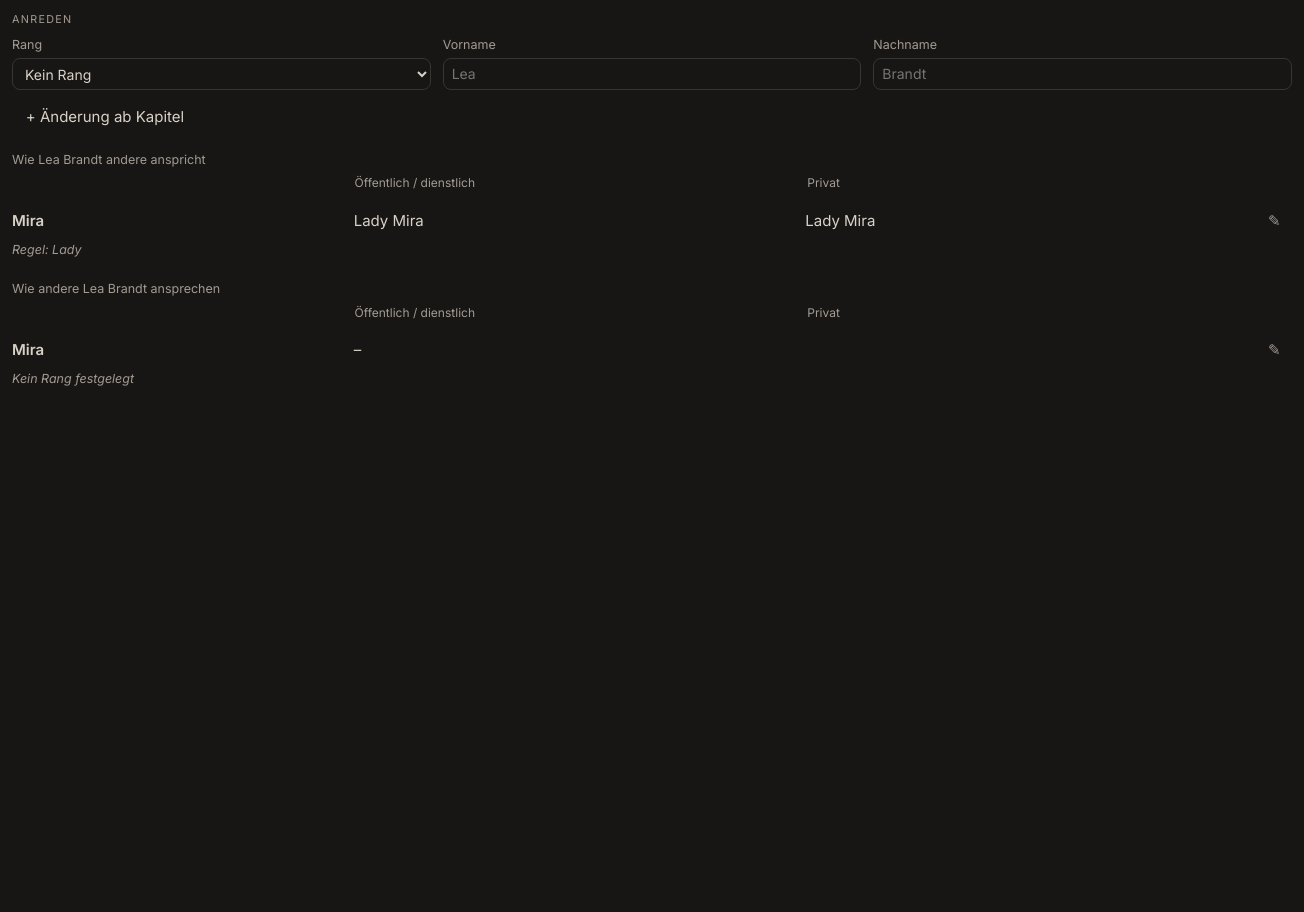
the pencil on a rule row creates an exception
Click the button named "Lea Brandt spricht Mira an – bearbeiten" at (1274, 221), box [1257,203,1292,239]
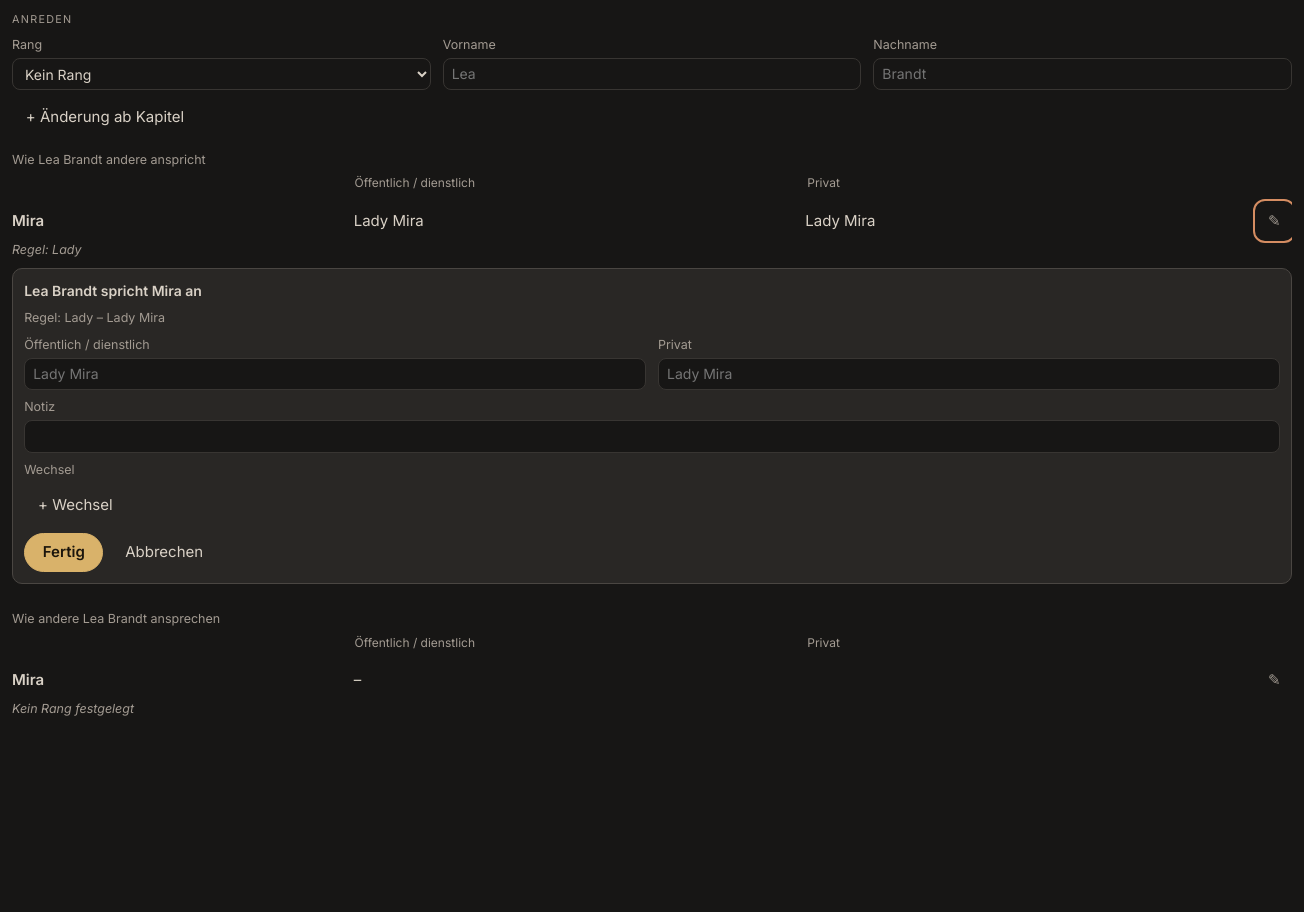
Now the text "Regel: Lady – Lady Mira" is shown, box [24,310,165,325]
Type "Mira" into the field labelled "Privat" at (969, 374), box [658,358,1280,390]
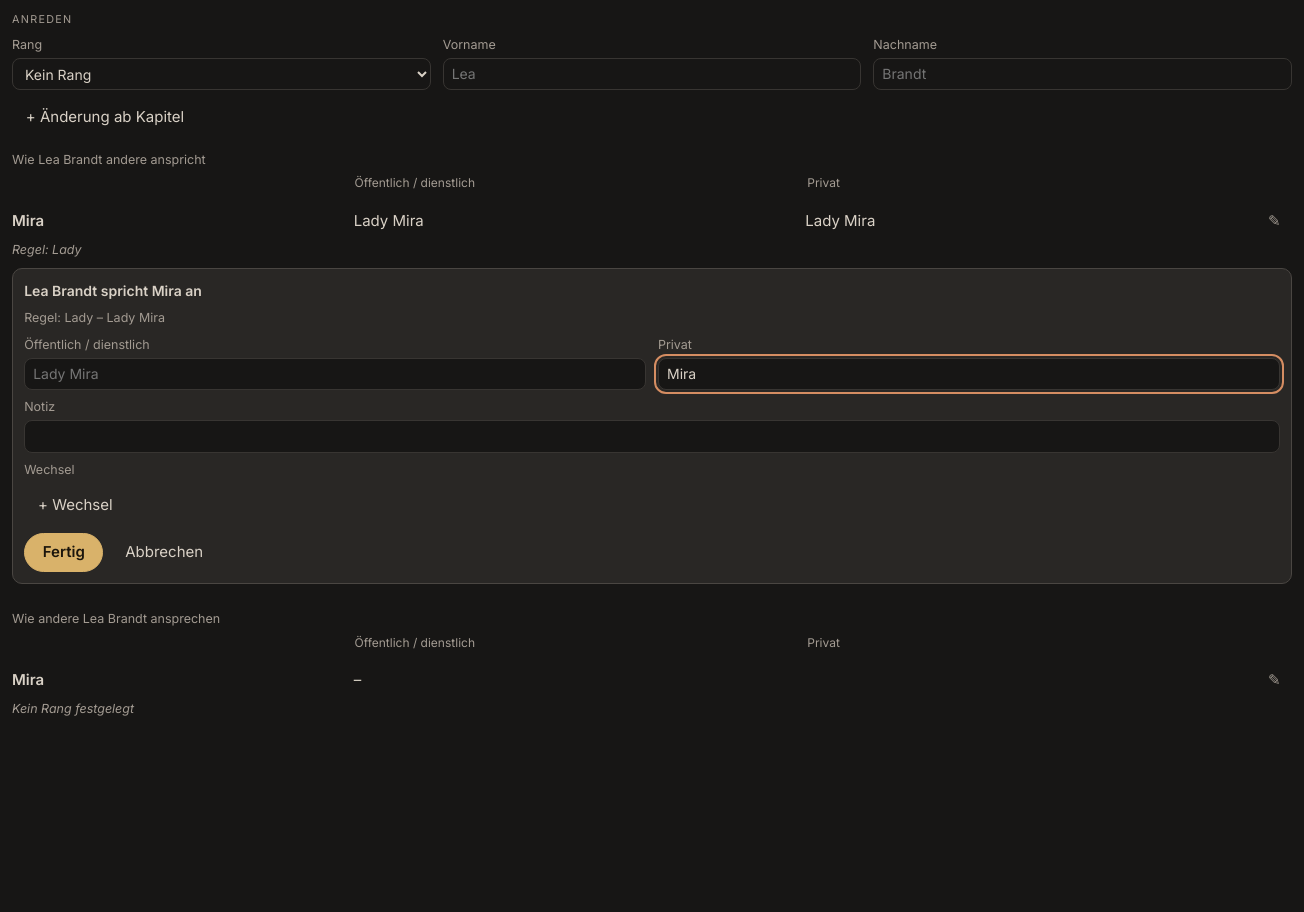
Click the button "Fertig" at (64, 553), box [24,533,103,572]
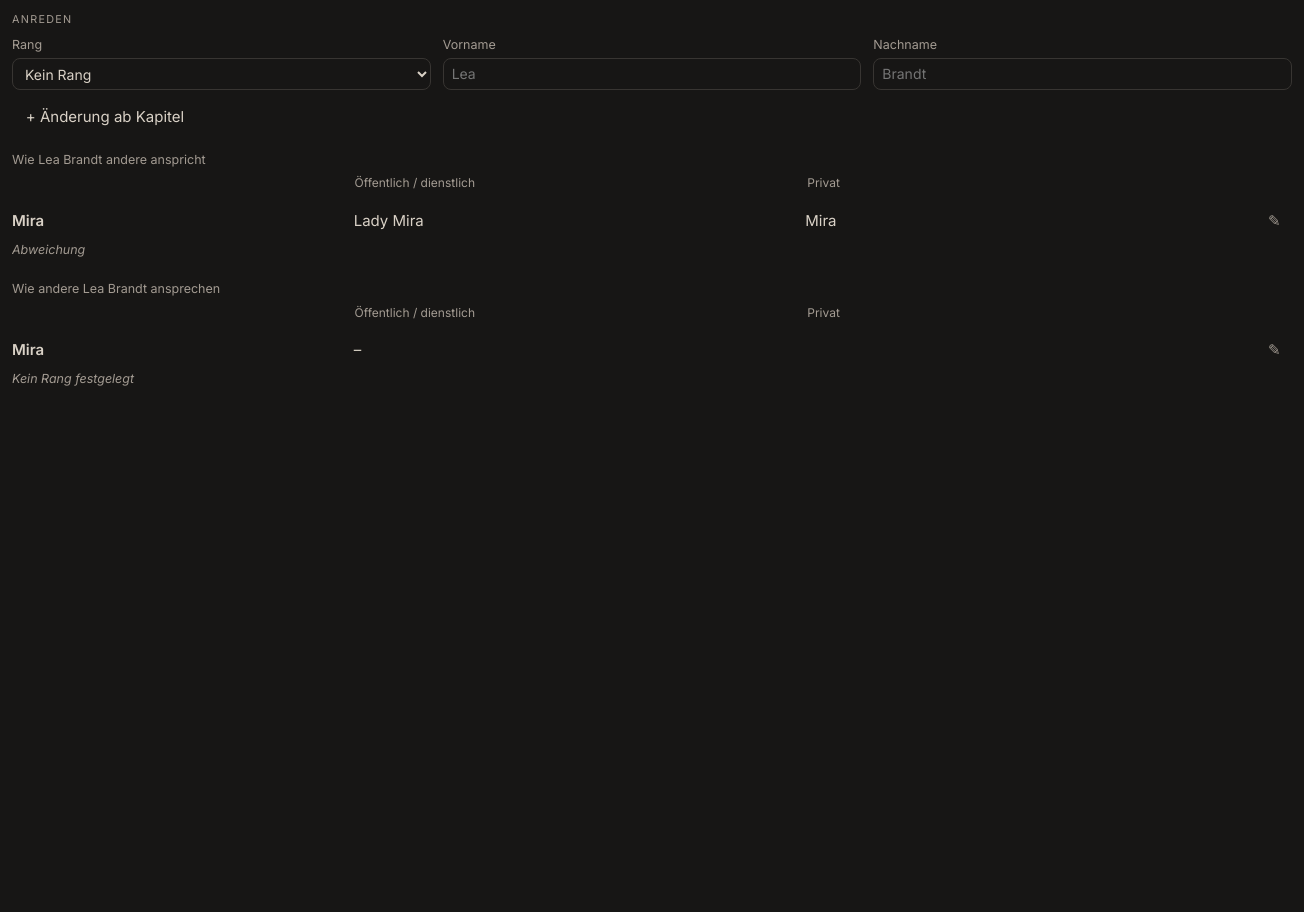
Now the heading "Lea Brandt spricht Mira an" is gone
